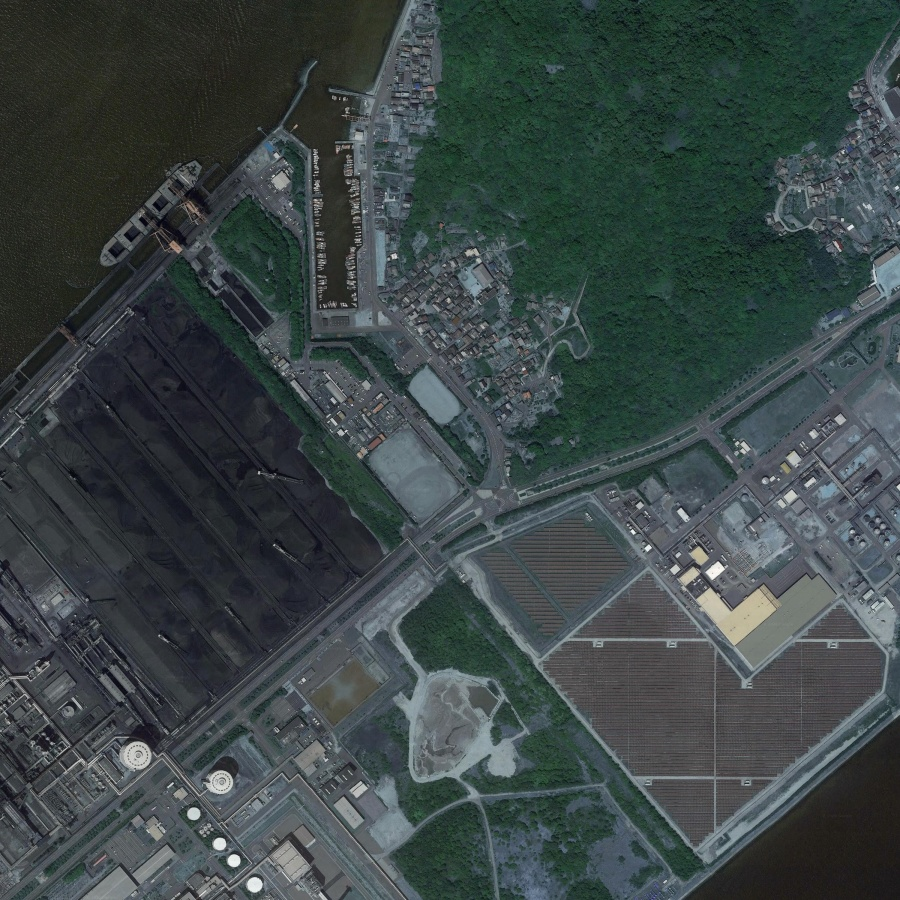PowerPlant: (10, 288, 397, 682)
